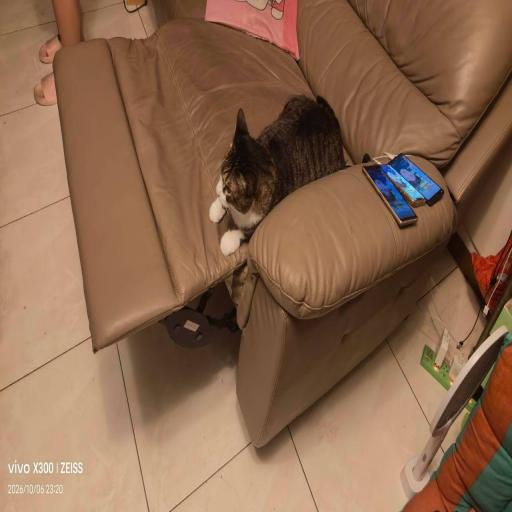cat: (214, 132, 324, 214)
